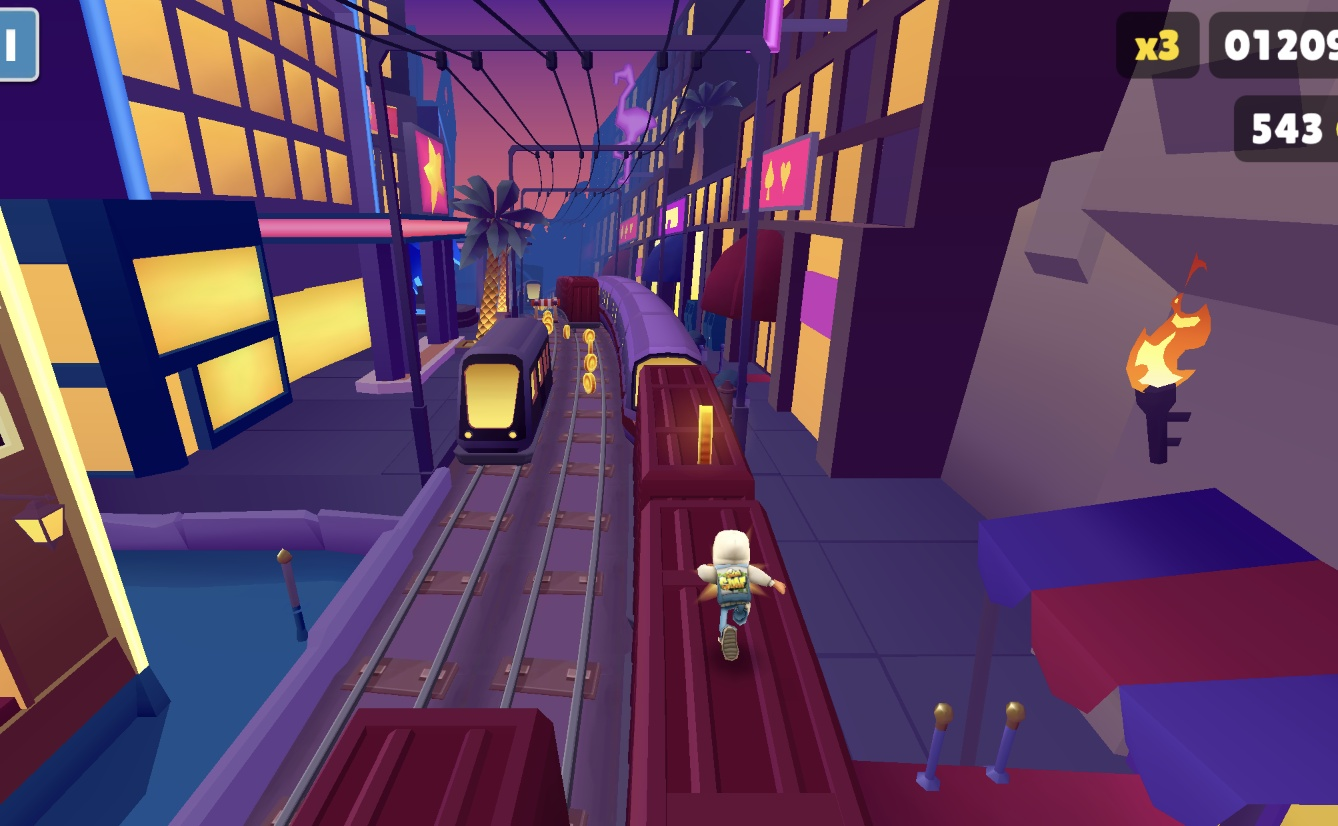train: (632, 277, 876, 826), (444, 699, 582, 826), (457, 312, 554, 467)
